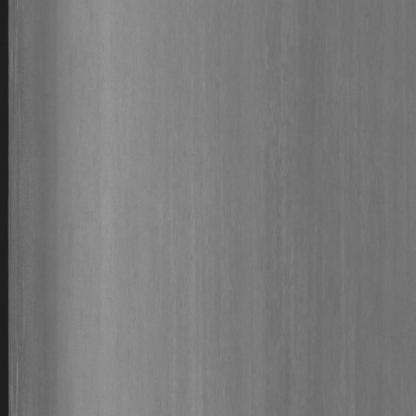silk_spot: (254, 9, 300, 158)
